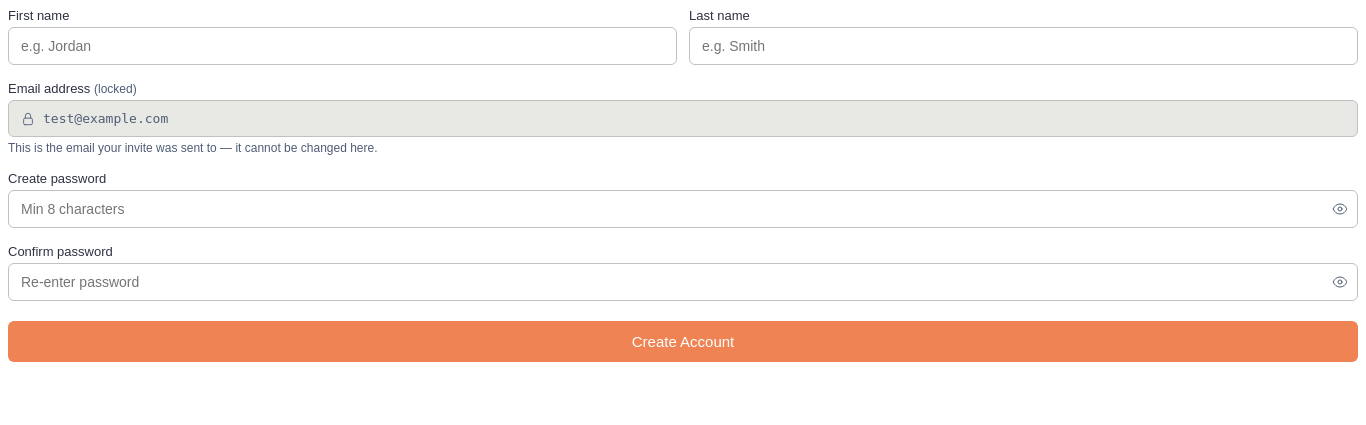
Scenario: AccountSetupForm › shows mismatch error when passwords differ
The image size is (1366, 425).
Type "John" into the field labelled "First name".
click(342, 46); type("John")  # box left=8, top=27, right=677, bottom=65
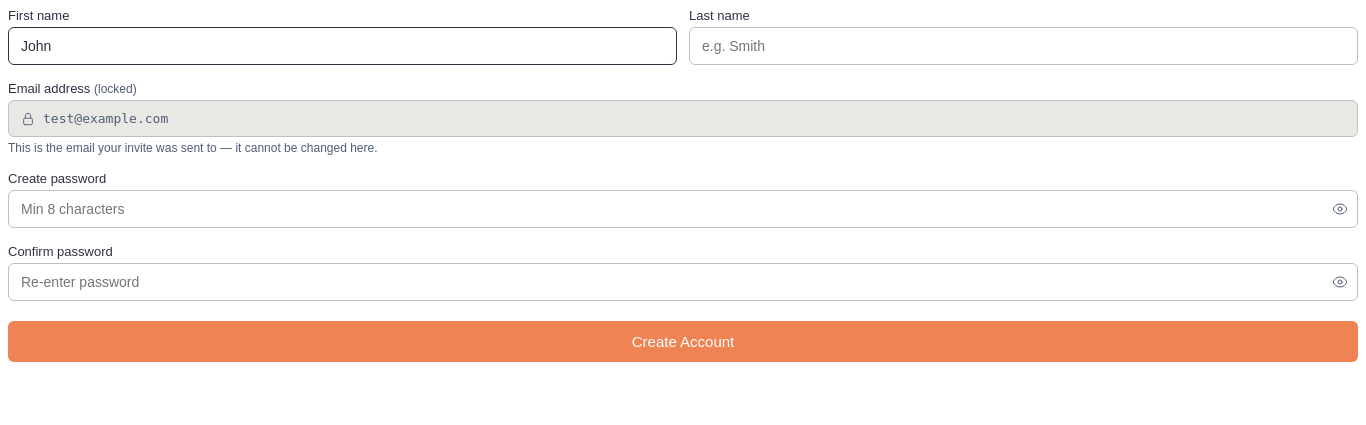
Type "Doe" into the field labelled "Last name".
click(1024, 46); type("Doe")  # box left=689, top=27, right=1358, bottom=65
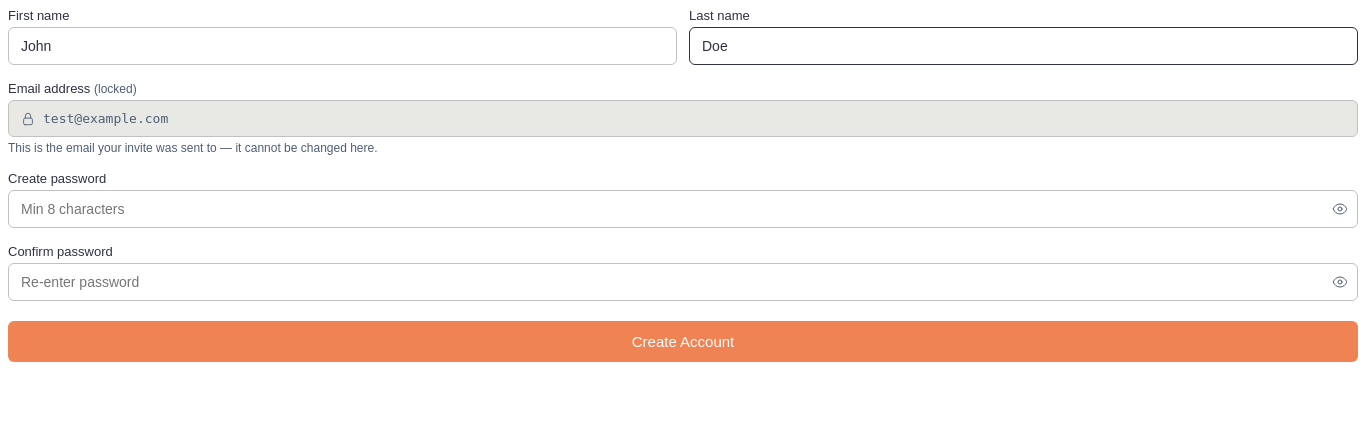
Type "Password1!" into the password field labelled "Create password".
click(683, 209); type("Password1!")  # box left=8, top=190, right=1358, bottom=228
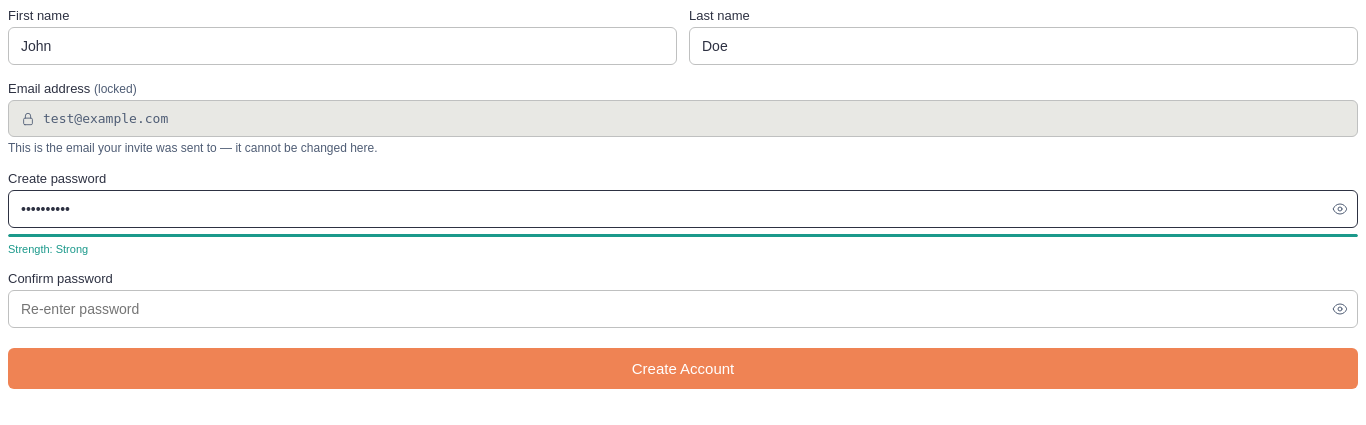
Type "Different1!" into the password field labelled "Confirm password".
click(683, 309); type("Different1!")  # box left=8, top=290, right=1358, bottom=328
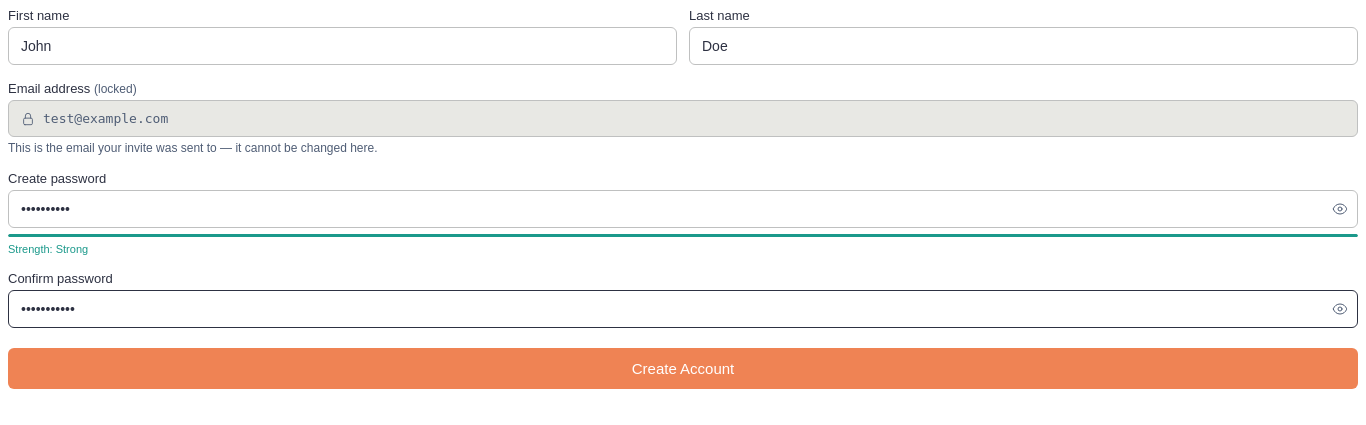
Click the button "Create Account".
click(683, 368)  # box left=8, top=348, right=1358, bottom=389
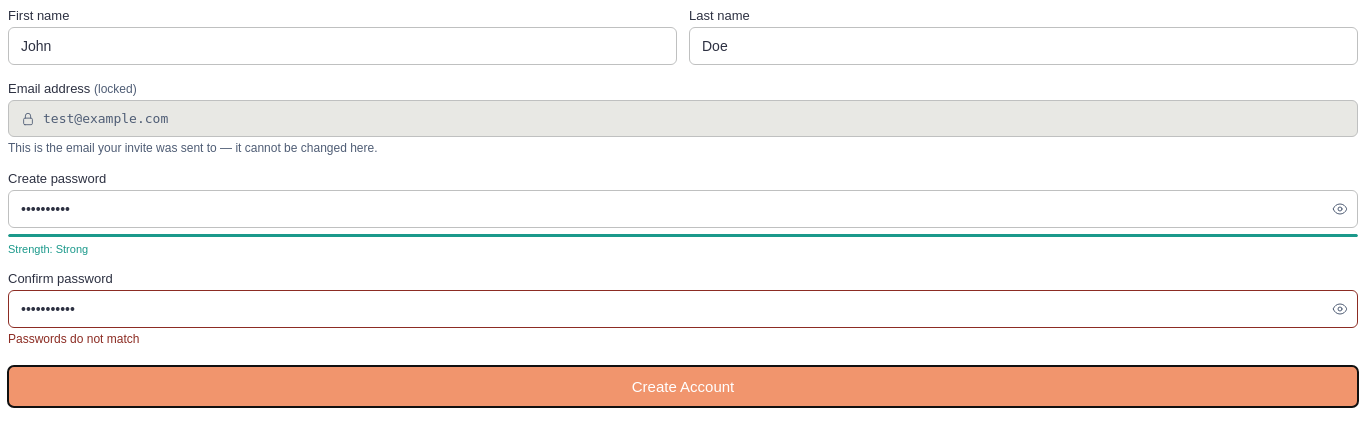
Expected: the text "Passwords do not match" is shown, left=8, top=332, right=139, bottom=346
